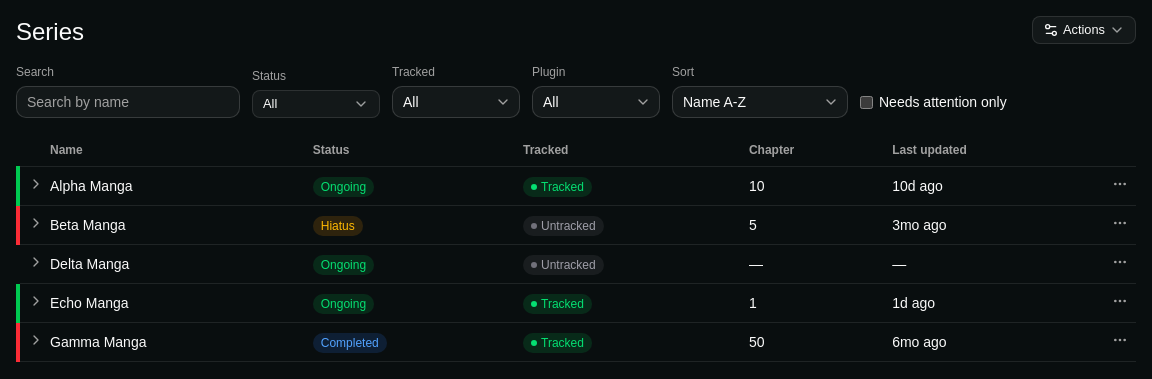
Scenario: SeriesPage › narrows by status facet
The image size is (1152, 379).
Expected: the link "Alpha Manga" is shown, [50,178,132,194]
Click the button named "status" at (316, 104), box [252,90,380,118]
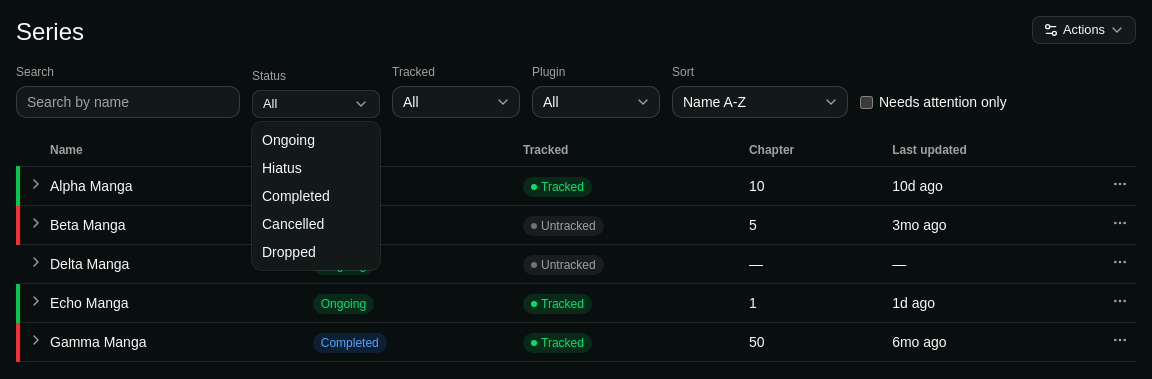
Click the menu item "Hiatus" at (282, 168), box [262,160,302,176]
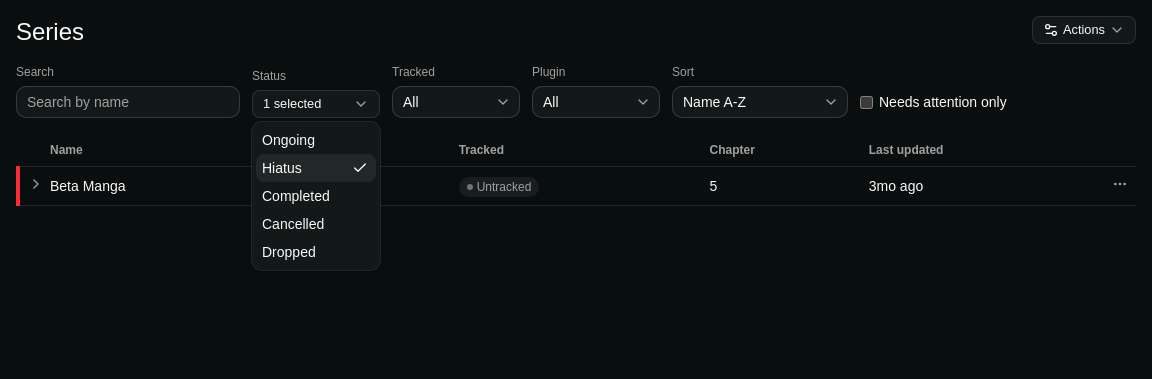
Expected: the link "Beta Manga" is shown, [50,178,126,194]
Now the link "Alpha Manga" is gone
Now the link "Gamma Manga" is gone
